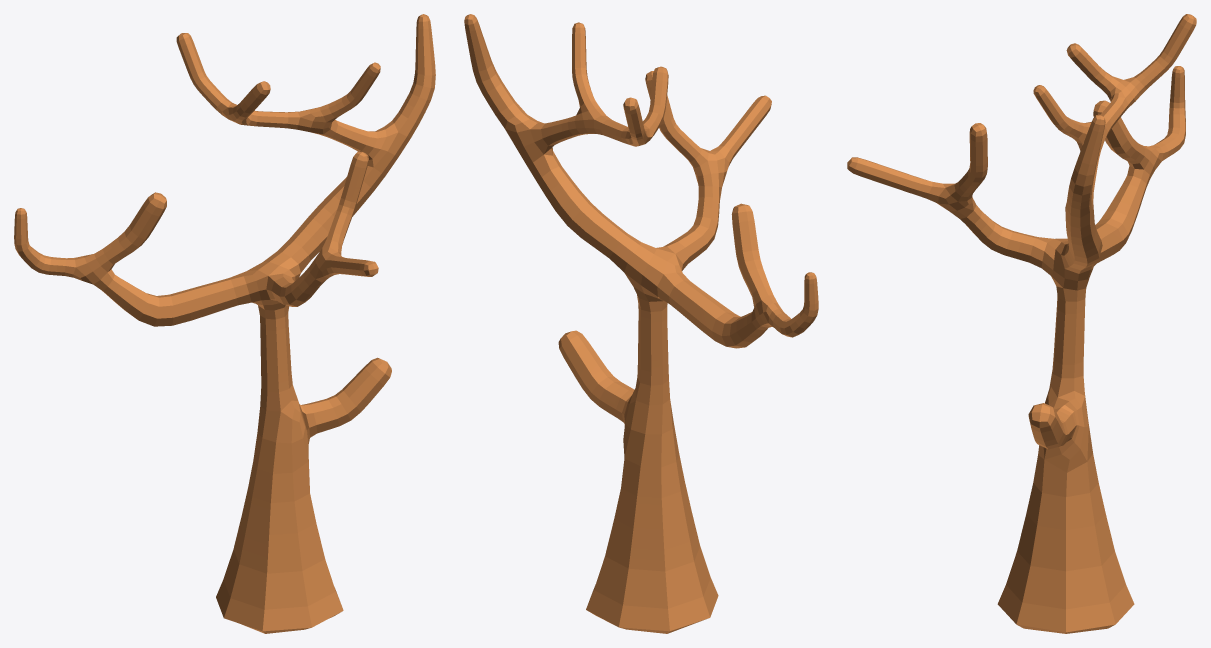
File: treeNoLeaves1.fbx
3 views of the same model, side by side, from view 1: azimuth 30°, elevation 25°; view 2: azimuth 150°, elevation 25°; view 3: azimuth 270°, elevation 25° (orthographic). The views are drawn at different scales.
Visible parts, largest first — view 1: Plane_Plane.001; view 2: Plane_Plane.001; view 3: Plane_Plane.001.
Boxes of the visible parts, x1,y1,x2,y2 form: Plane_Plane.001: [14, 14, 435, 633]; Plane_Plane.001: [464, 14, 818, 633]; Plane_Plane.001: [847, 14, 1196, 633].
Size of the model in its own units: 195 by 272 by 148.
